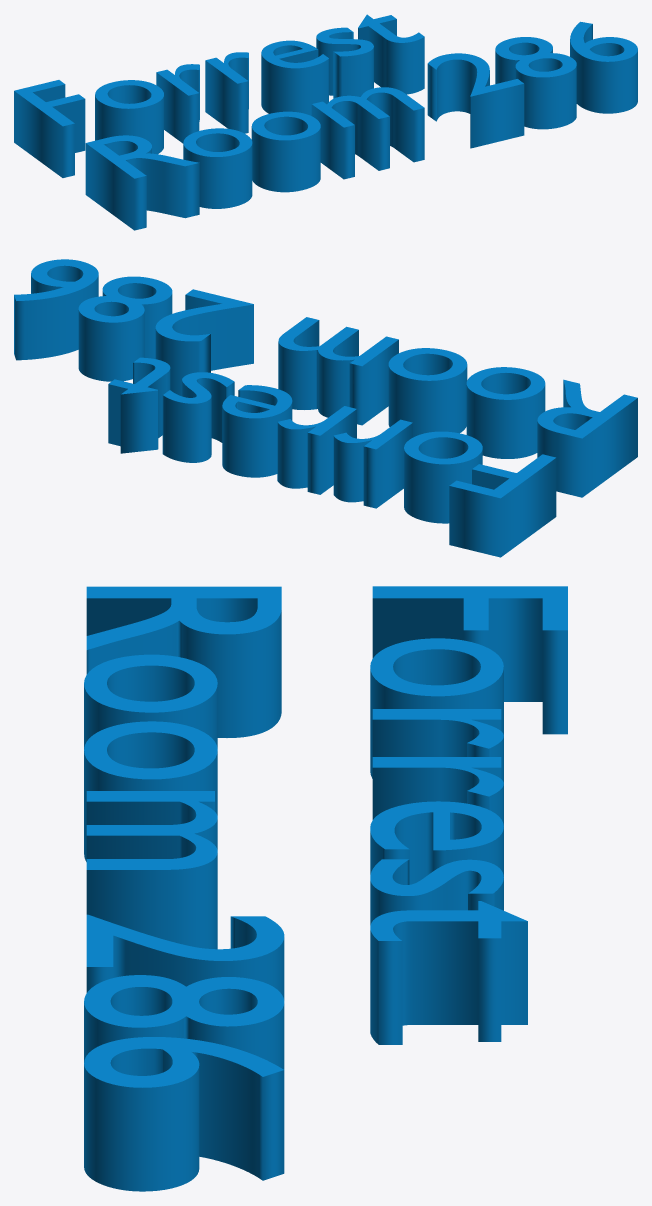
File: forrest-286.gltf
The picture shows the model from 3 angles, top to bottom: view 1: azimuth 30°, elevation 25°; view 2: azimuth 150°, elevation 25°; view 3: azimuth 270°, elevation 25°; orthographic projection. The views are drawn at different scales.
Visible parts, largest first — view 1: Text; view 2: Text; view 3: Text.
Boxes of the visible parts, bbox=[...] form: Text: bbox=[14, 14, 637, 230]; Text: bbox=[14, 259, 637, 557]; Text: bbox=[84, 586, 567, 1191].
Size of the model in its own units: 4.15 by 0.4 by 1.69.
